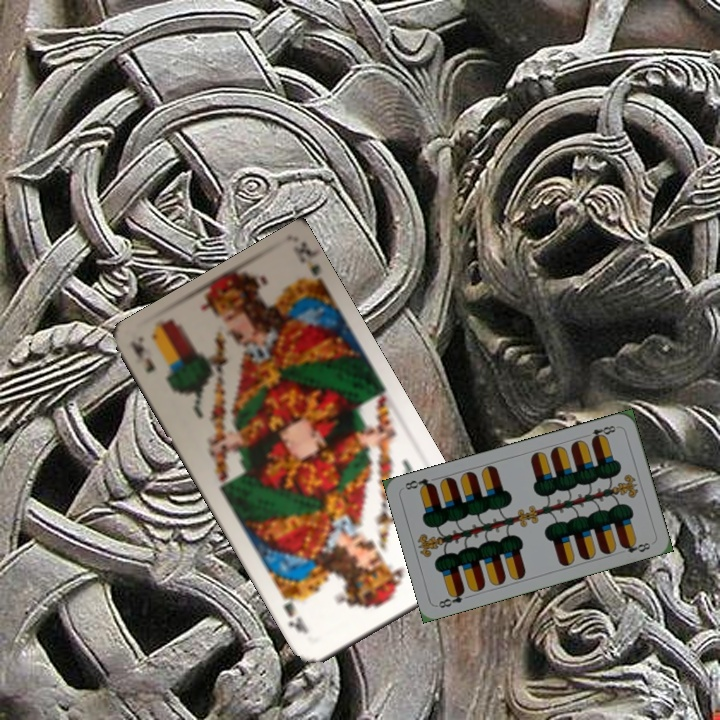E8: (581, 421, 621, 444), (434, 586, 467, 611)
EK: (129, 340, 158, 376)
